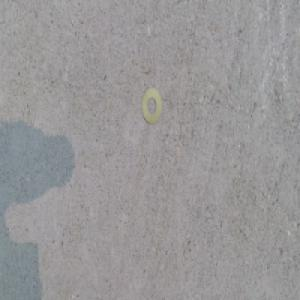Washer: (141, 88, 162, 125)
